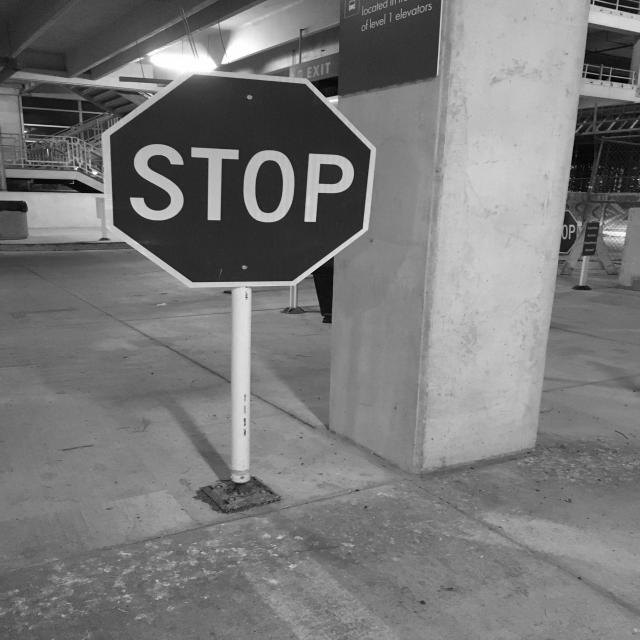Stop-sign: (91, 66, 386, 296)
